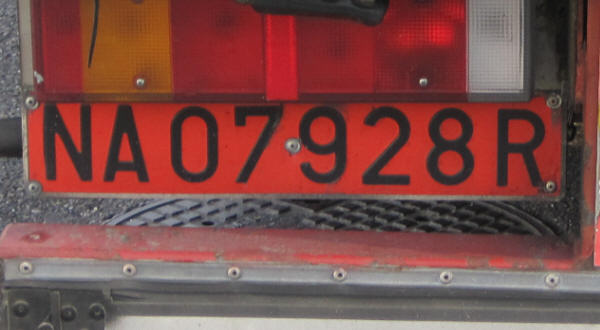license_plate: (21, 96, 565, 199)
